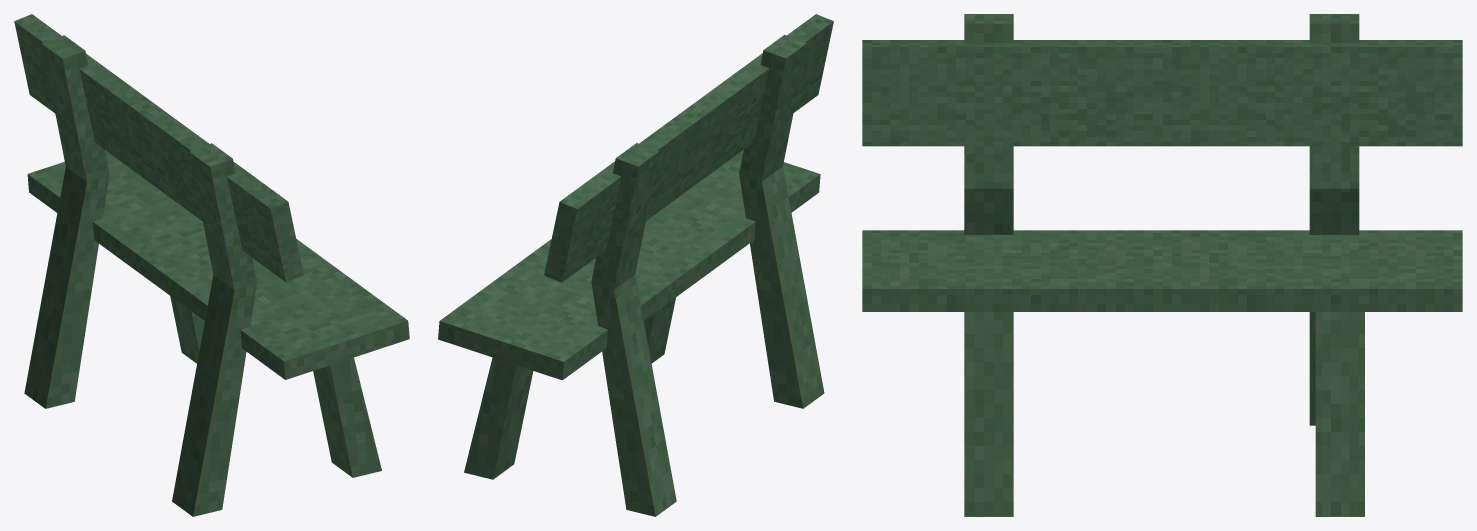
File: Bench.fbx
3 views of the same model, side by side, from view 1: azimuth 30°, elevation 25°; view 2: azimuth 150°, elevation 25°; view 3: azimuth 270°, elevation 25° (orthographic). The views are drawn at different scales.
Parts seen in each view (by area): view 1: Cube.001; view 2: Cube.001; view 3: Cube.001.
Part boxes in pixels (x1,y1,x2,y2): Cube.001: (14,14,409,516); Cube.001: (438,14,833,516); Cube.001: (862,14,1462,516).
Size of the model in its own units: 0.7491 by 1.76 by 1.32.
